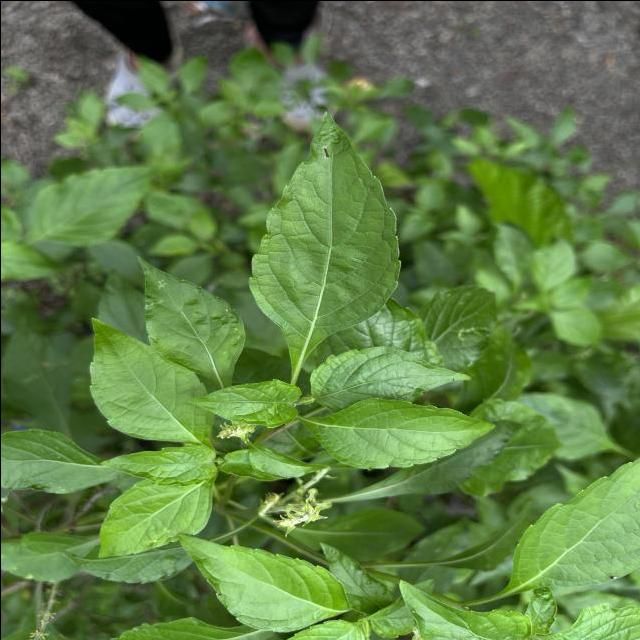Ocimum gratissimum: (244, 107, 404, 369), (492, 452, 640, 602), (173, 528, 354, 636), (84, 313, 218, 447), (298, 394, 500, 474), (95, 471, 216, 561), (0, 424, 117, 498), (184, 374, 304, 430), (92, 440, 220, 489)
